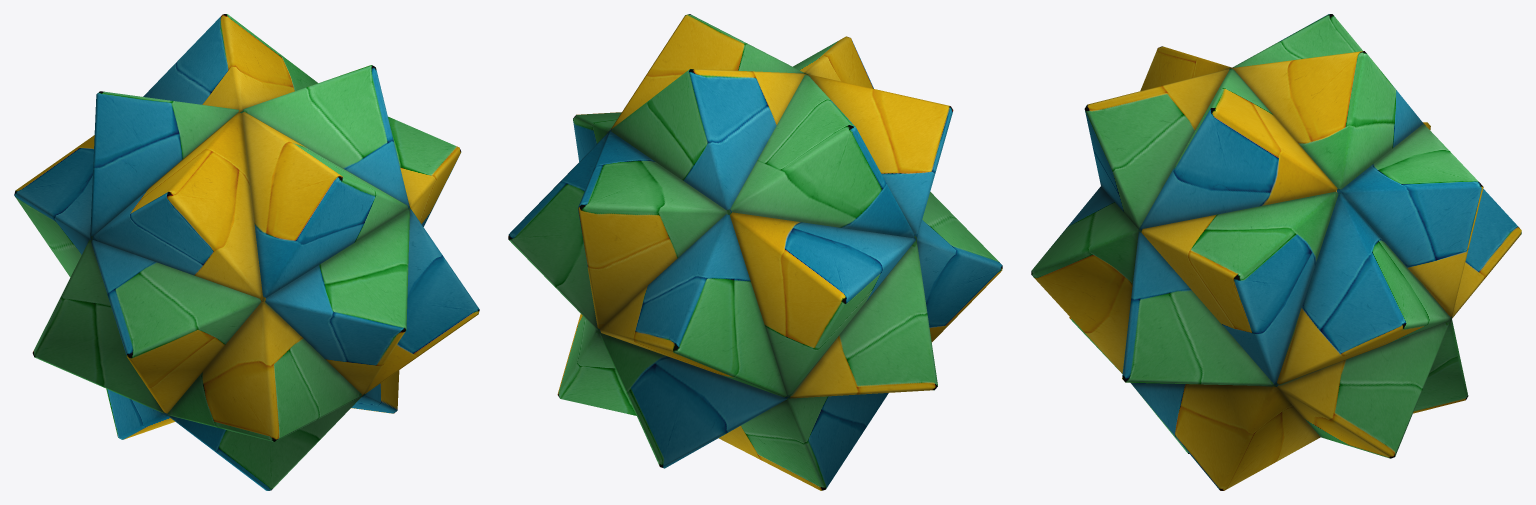
File: hl_ball_paper_small.fbx
The picture shows the model from 3 angles, left to right: view 1: azimuth 30°, elevation 25°; view 2: azimuth 150°, elevation 25°; view 3: azimuth 270°, elevation 25°; orthographic projection. The views are drawn at different scales.
Parts seen in each view (by area): view 1: hl_ball_paper_small; view 2: hl_ball_paper_small; view 3: hl_ball_paper_small.
Part boxes in pixels (left/top/right/bottom): hl_ball_paper_small: left=14, top=14, right=479, bottom=490; hl_ball_paper_small: left=508, top=14, right=1002, bottom=490; hl_ball_paper_small: left=1031, top=14, right=1521, bottom=490.
Size of the model in its own units: 8.4 by 8.36 by 8.81.
